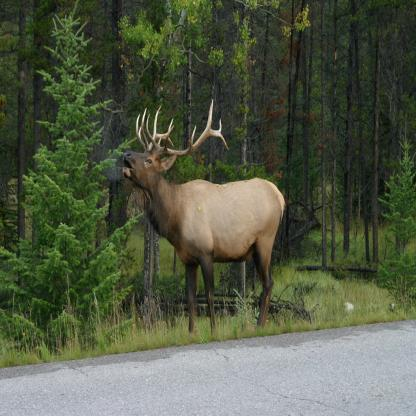Deer: (120, 94, 289, 342)
